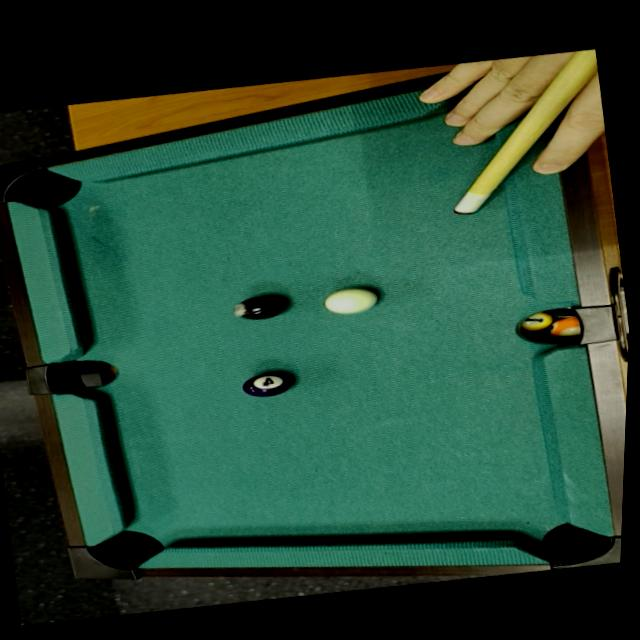cue ball: (324, 282, 382, 317)
other: (229, 287, 294, 325), (240, 366, 294, 401)
